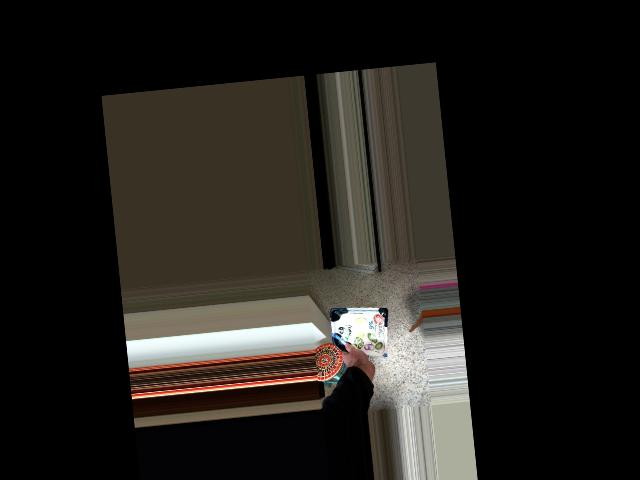cheese: (330, 315, 394, 379)
